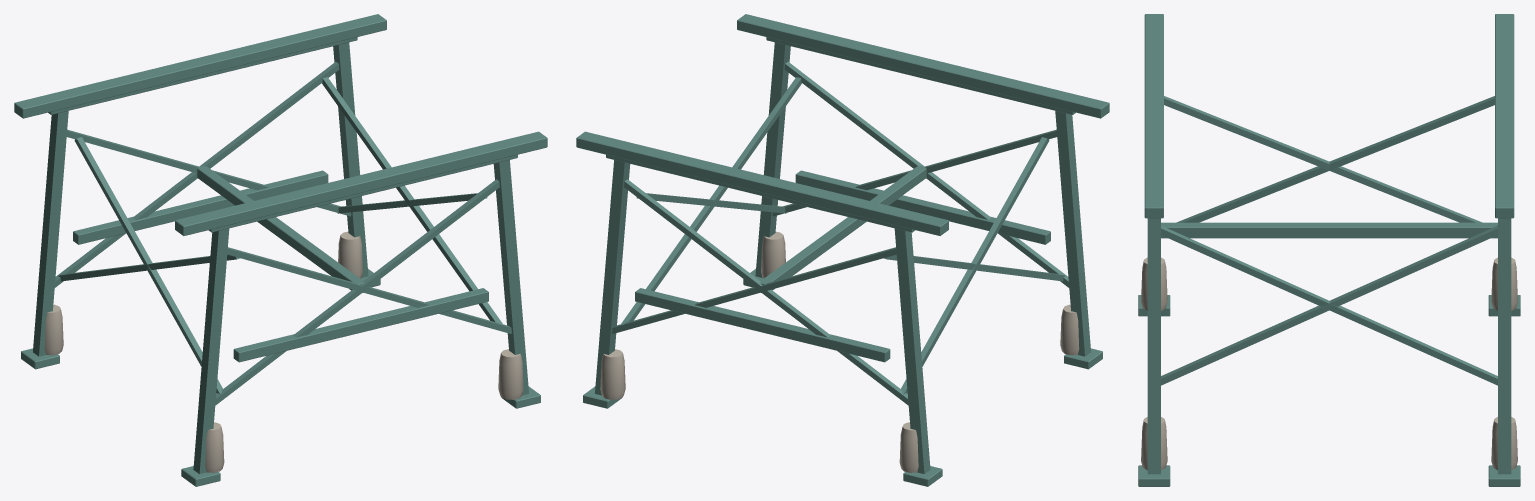
Rendered from amusement-arcade-and-seaside-pier-pier-leg-frame-454a53e4__35387.glb.
3 renders of one model, left to right at view 1: azimuth 30°, elevation 25°; view 2: azimuth 150°, elevation 25°; view 3: azimuth 270°, elevation 25°, orthographic. The views are drawn at different scales.
Parts seen in each view (by area): view 1: pier-leg-frame; view 2: pier-leg-frame; view 3: pier-leg-frame.
Part boxes in pixels (bbox=[...]): pier-leg-frame: bbox=[14, 14, 547, 486]; pier-leg-frame: bbox=[576, 14, 1109, 486]; pier-leg-frame: bbox=[1138, 14, 1520, 486].
Bounding box in the file's own units: 3.8 × 2.6 × 3.16.
